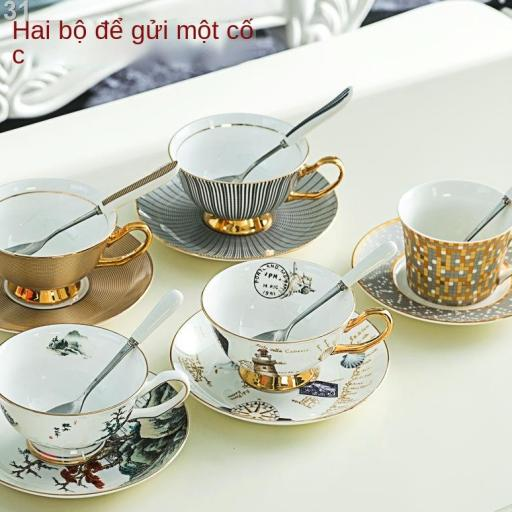cup: (0, 323, 189, 463), (201, 259, 392, 390), (169, 114, 343, 239), (0, 179, 151, 303), (398, 180, 512, 306)
